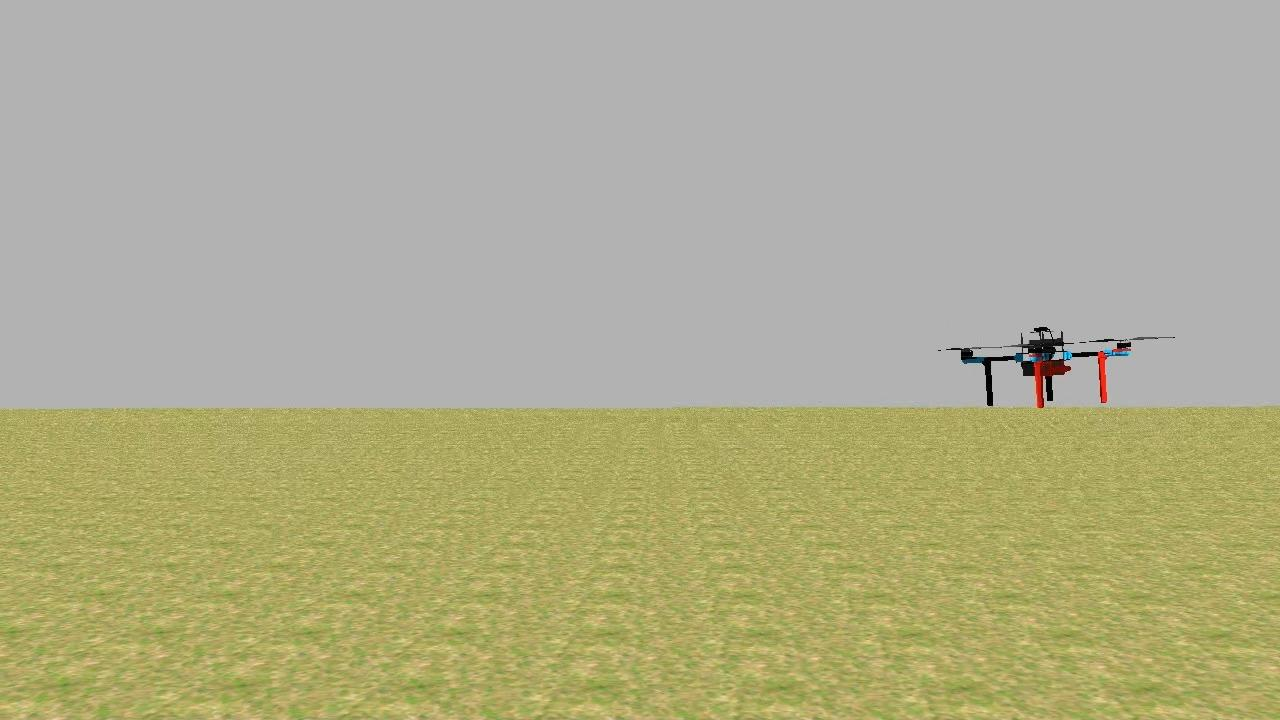UAV: (932, 305, 1182, 428)
